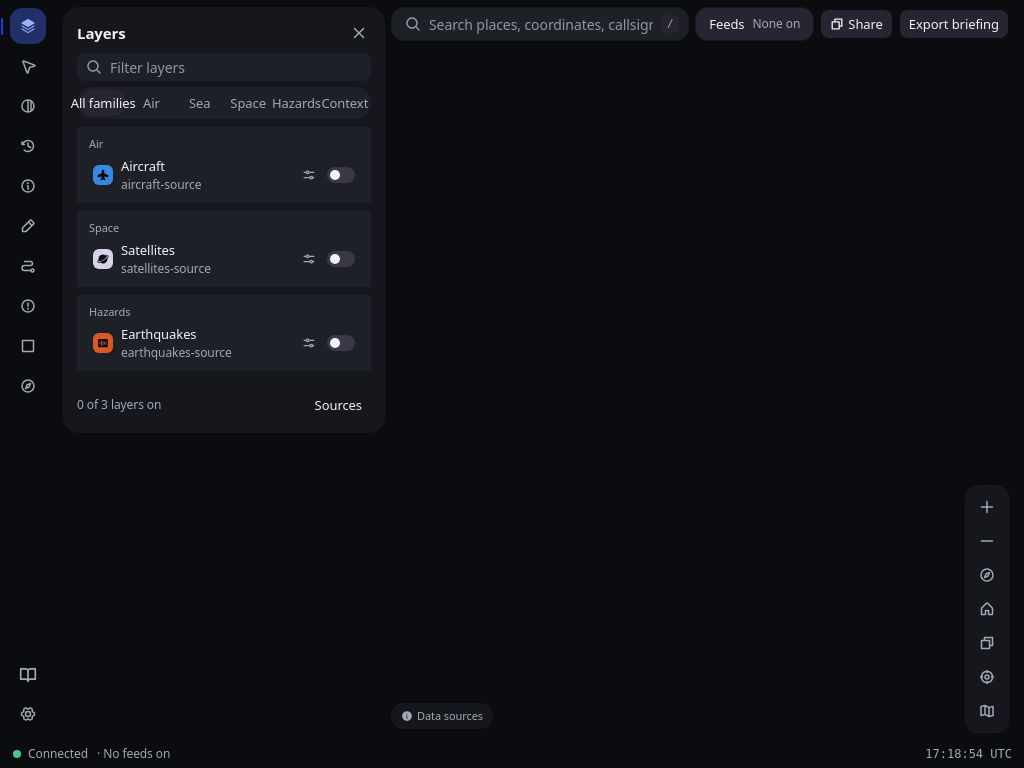
Scenario: App shell › switches the left island from the rail and closes it on a second press
Click the button named "Sources" at (28, 186), box [10,168,46,204]
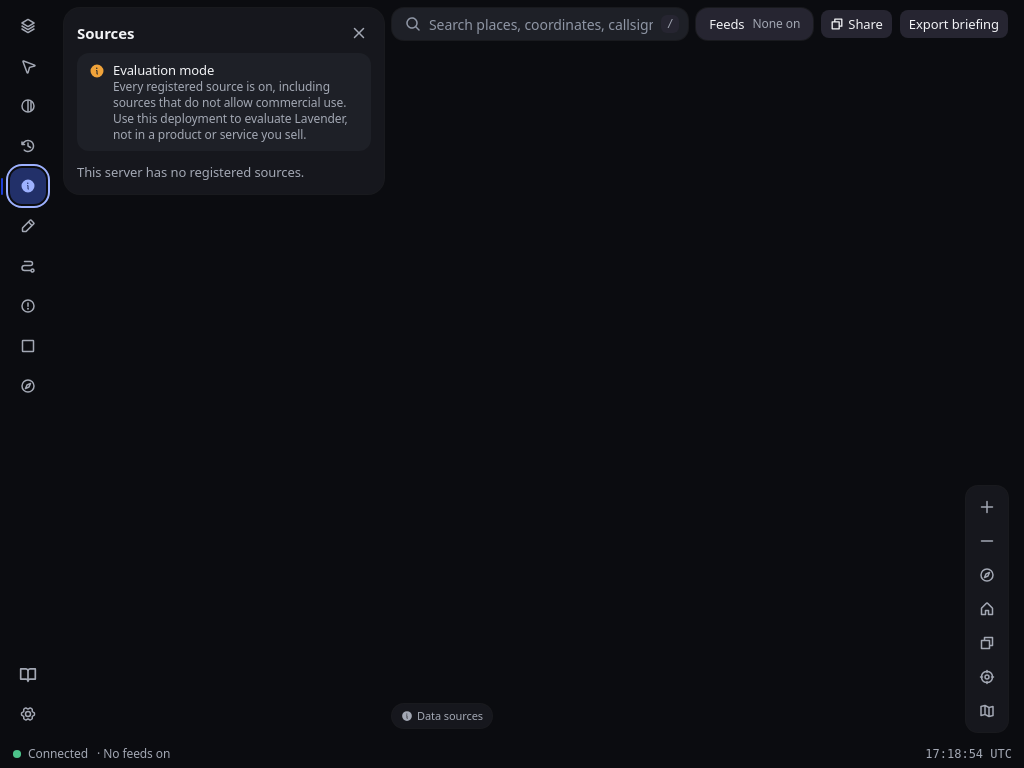
Expected: the element "Sources" is shown, [64,8,384,194]
Click the button named "Sources" at (28, 186), box [10,168,46,204]
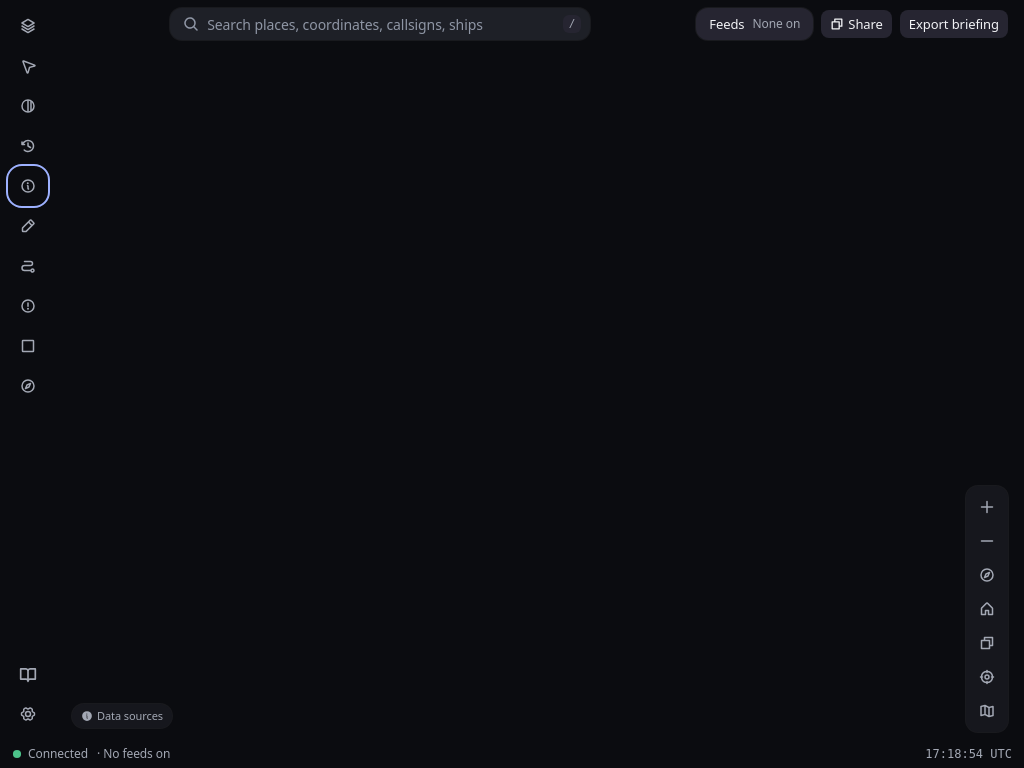
Click the button named "Settings" at (28, 714), box [10,696,46,732]
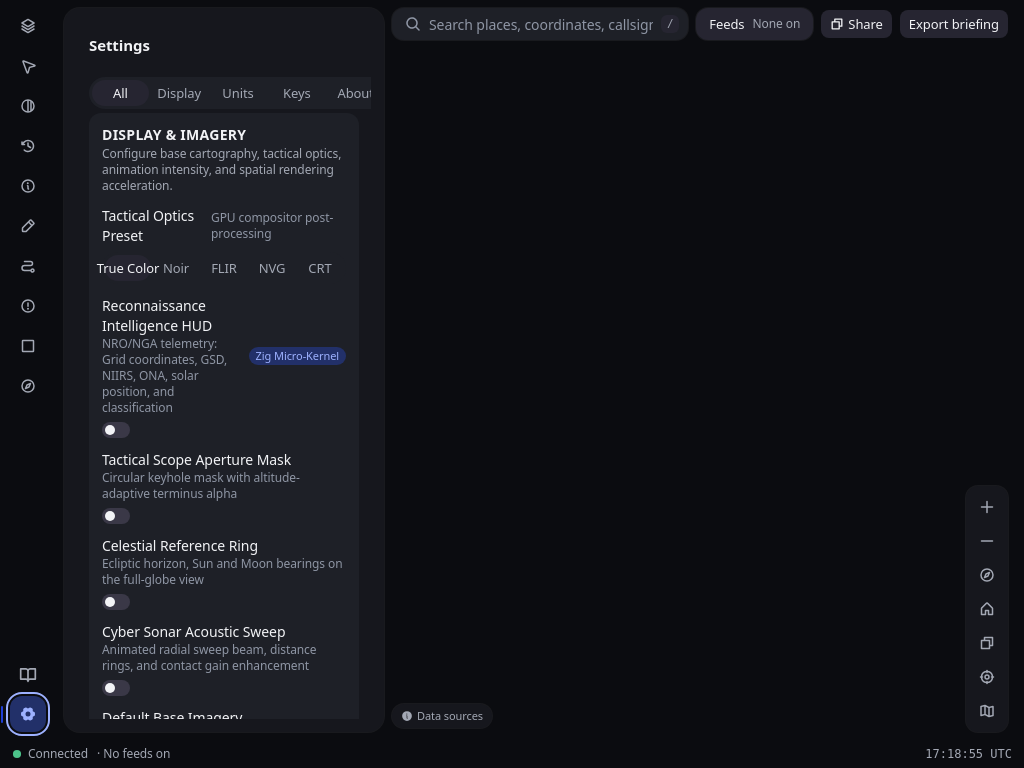
Expected: the element "Settings" is shown, [64,8,384,732]
